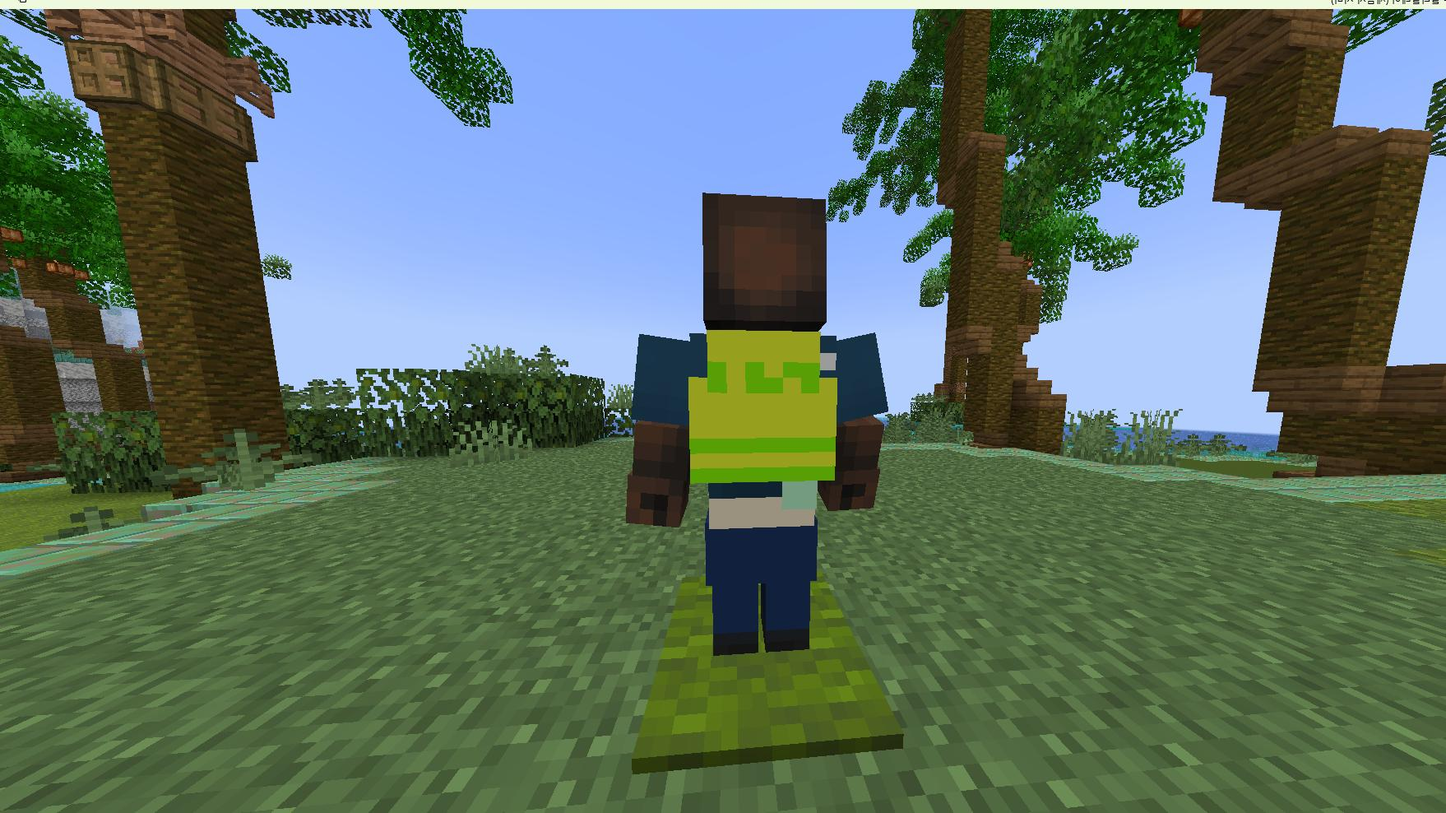Guardian: (627, 195, 889, 654)
